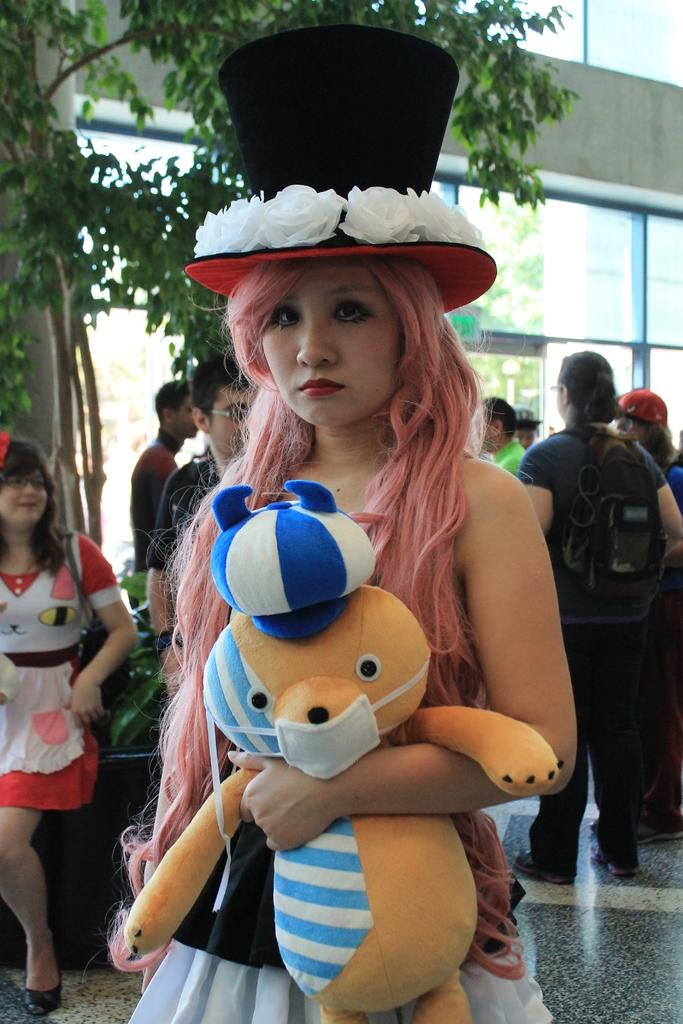Hat: (181, 24, 498, 316), (614, 386, 670, 426)
